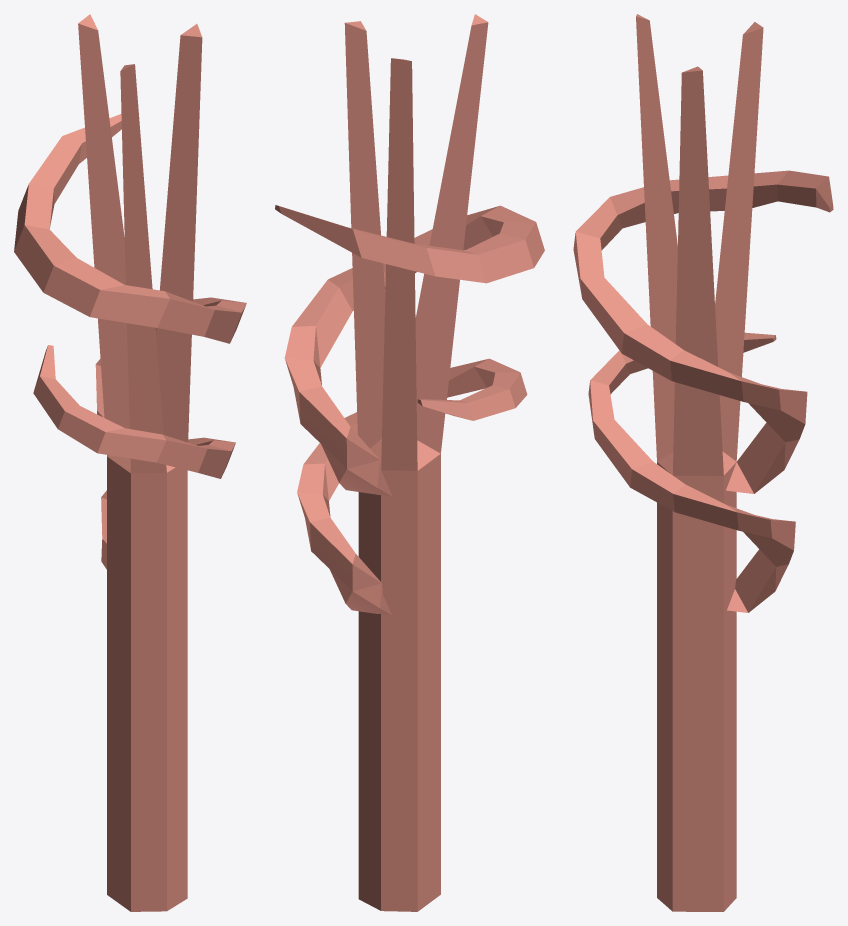
Rendered from plant03.fbx.
3 renders of one model, left to right at view 1: azimuth 30°, elevation 25°; view 2: azimuth 150°, elevation 25°; view 3: azimuth 270°, elevation 25°, orthographic.
Visible parts, largest first — view 1: plant03; view 2: plant03; view 3: plant03.
Part boxes in pixels (x1=…): plant03: x1=14, y1=14, x2=246, y2=911; plant03: x1=275, y1=14, x2=544, y2=911; plant03: x1=573, y1=14, x2=833, y2=911.
Bounding box in the file's own units: 0.6544 × 0.7252 × 2.65.
